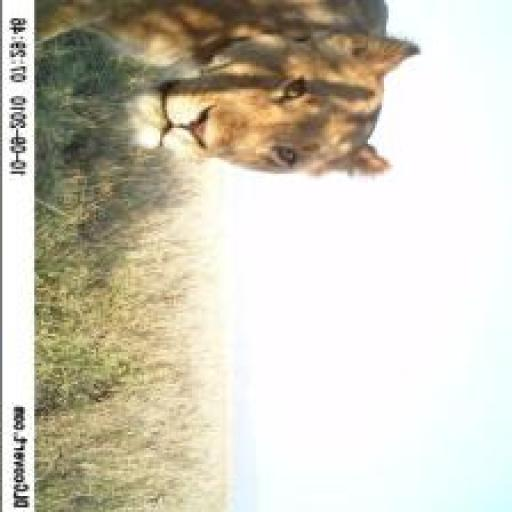lion: (34, 2, 439, 197)
